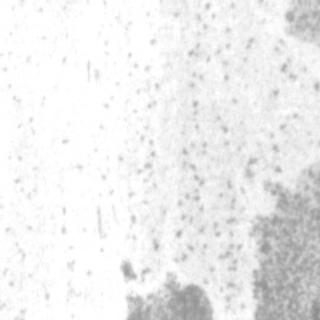pitted_surface: (120, 1, 244, 276), (246, 165, 318, 315), (122, 280, 218, 318), (268, 0, 318, 46)
